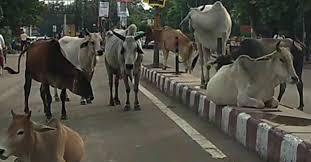cow: (206, 48, 300, 109), (24, 40, 94, 120), (0, 115, 83, 162), (106, 32, 146, 111), (57, 33, 102, 74)
